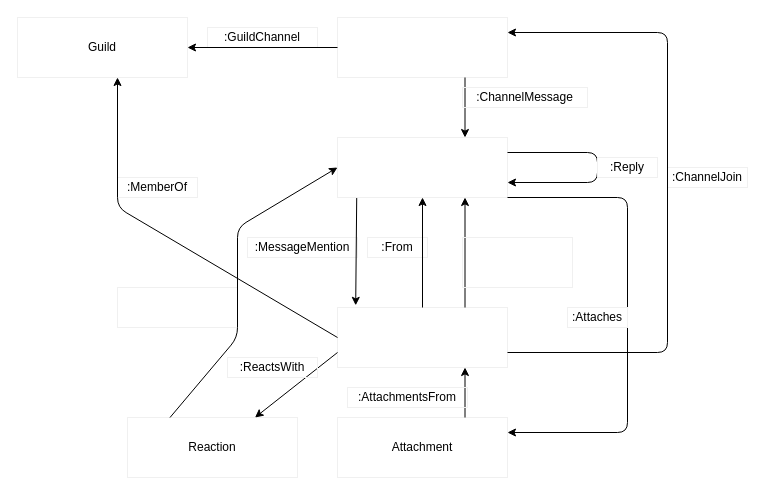
The diagram is 765 pixels wide and 495 high, and some of its shapes have lost their labels. Each missing label, with the centre of its shape:
":ReactionToMessage {NumReaction:INT}" belongs at point 177,307.
":UserReactsTo {EmojiID:STRING}" belongs at point 517,262.
"Channel" belongs at point 422,47.
"Message" belongs at point 422,167.
"User" belongs at point 422,337.
